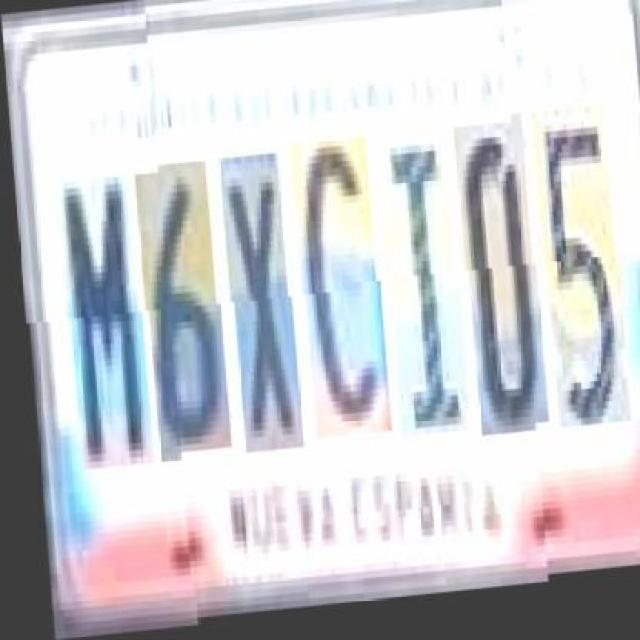0: (454, 130, 541, 445)
5: (531, 124, 624, 447)
6: (133, 164, 224, 458)
c: (290, 143, 384, 445)
i: (375, 144, 463, 445)
m: (56, 170, 146, 464)
x: (219, 158, 296, 458)
